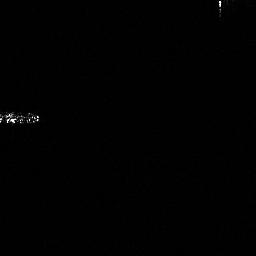ship: (1, 109, 41, 126)
